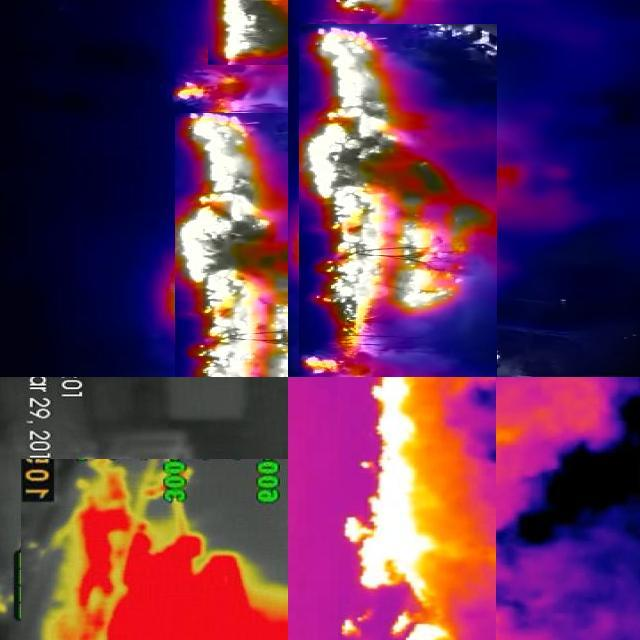fire: (300, 24, 498, 378), (22, 459, 289, 640), (339, 378, 497, 640), (175, 113, 289, 378), (209, 1, 289, 65), (175, 73, 267, 109)
